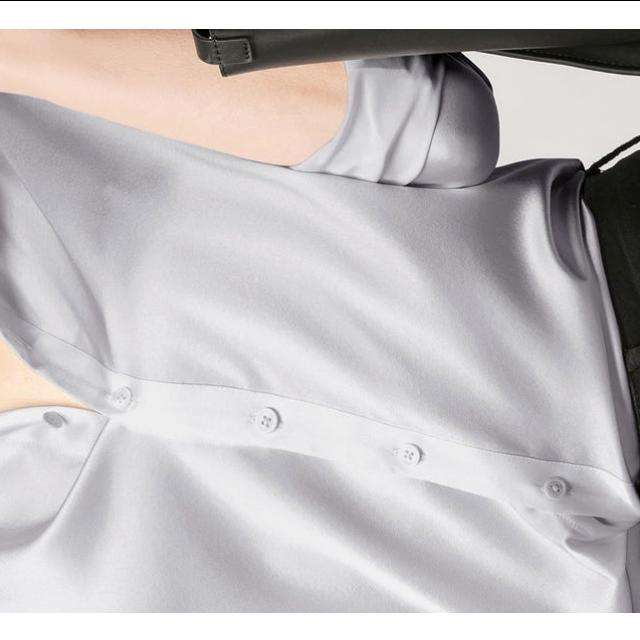silk: (0, 90, 640, 612)
